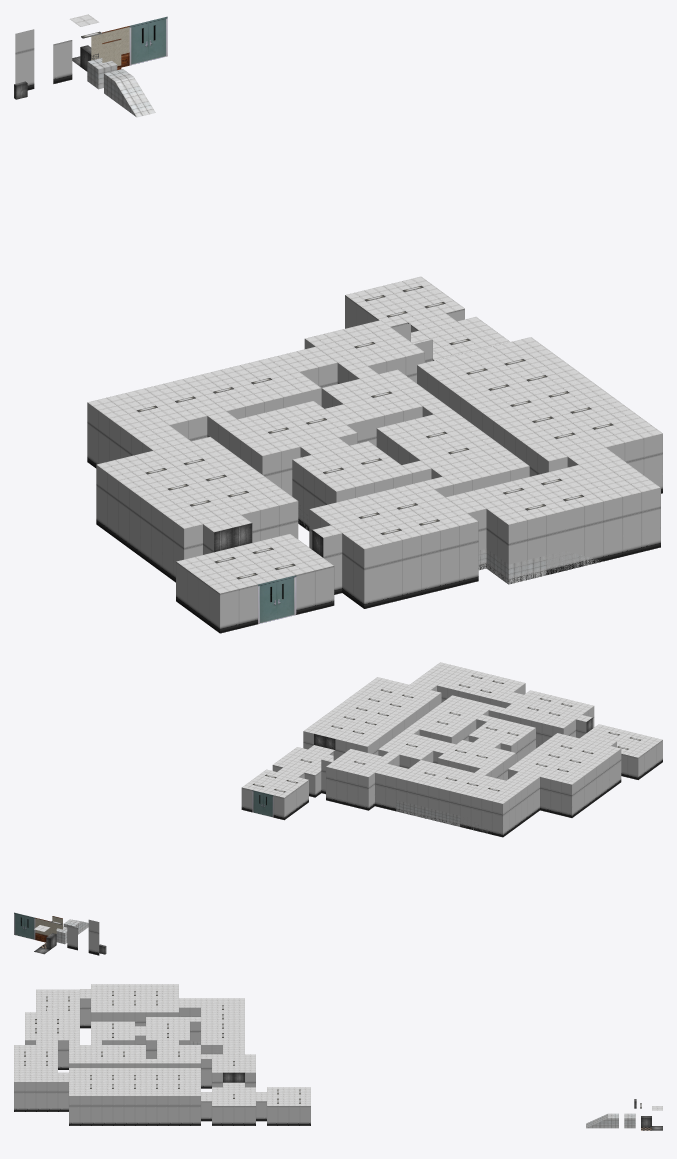
Rendered from bvj-3-level-6.glb.
3 views of the same model, one above another, from view 1: azimuth 30°, elevation 25°; view 2: azimuth 150°, elevation 25°; view 3: azimuth 270°, elevation 25° (orthographic). The views are drawn at different scales.
Parts seen in each view (by area): view 1: door-double, door-double.002, panel-white-ramp-1x3, wall-panel-3x1.144, wall-panel-3x1.146, wall-panel-3x1.166, wall-panel-3x1.147, wall-panel-3x1.148, wall-panel-3x1.163, wall-panel-3x1.167, wall-panel-3x1.143, wall-panel-3x1.145 (+7 smaller); view 2: door-double.001, door-double; view 3: panel-white-ramp-1x3, wall-panel-3x1.142, wall-panel-3x1.006, wall-panel-3x1.007, wall-panel-3x1.008, wall-panel-3x1.009, wall-panel-3x1.010, wall-panel-3x1.011, wall-panel-3x1.012, wall-panel-3x1.013, wall-panel-3x1.005, wall-panel-3x1.014 (+9 smaller).
Part boxes in pixels (<box>): door-double: <box>129,16,167,65</box>; door-double.002: <box>258,575,296,624</box>; panel-white-ramp-1x3: <box>104,69,155,117</box>; wall-panel-3x1.144: <box>383,540,402,604</box>; wall-panel-3x1.146: <box>459,521,478,585</box>; wall-panel-3x1.166: <box>641,487,660,551</box>; wall-panel-3x1.147: <box>440,526,459,590</box>; wall-panel-3x1.148: <box>421,531,440,594</box>; wall-panel-3x1.163: <box>603,497,622,561</box>; wall-panel-3x1.167: <box>622,492,641,556</box>; wall-panel-3x1.143: <box>402,535,421,599</box>; wall-panel-3x1.145: <box>364,545,383,608</box>; door-double.001: <box>252,790,273,817</box>; door-double: <box>14,912,35,939</box>; panel-white-ramp-1x3: <box>586,1113,618,1128</box>; wall-panel-3x1.142: <box>80,998,90,1028</box>; wall-panel-3x1.006: <box>190,1096,200,1125</box>; wall-panel-3x1.007: <box>179,1096,189,1125</box>; wall-panel-3x1.008: <box>168,1096,178,1125</box>; wall-panel-3x1.009: <box>157,1096,167,1125</box>; wall-panel-3x1.010: <box>146,1096,156,1125</box>; wall-panel-3x1.011: <box>135,1096,145,1125</box>; wall-panel-3x1.012: <box>124,1096,134,1125</box>; wall-panel-3x1.013: <box>113,1096,123,1125</box>; wall-panel-3x1.005: <box>102,1096,112,1125</box>; wall-panel-3x1.014: <box>91,1096,101,1125</box>.
Bounding box in the file's own units: 29 × 3.52 × 59.
Materials: 9 (9 with a texture image).
